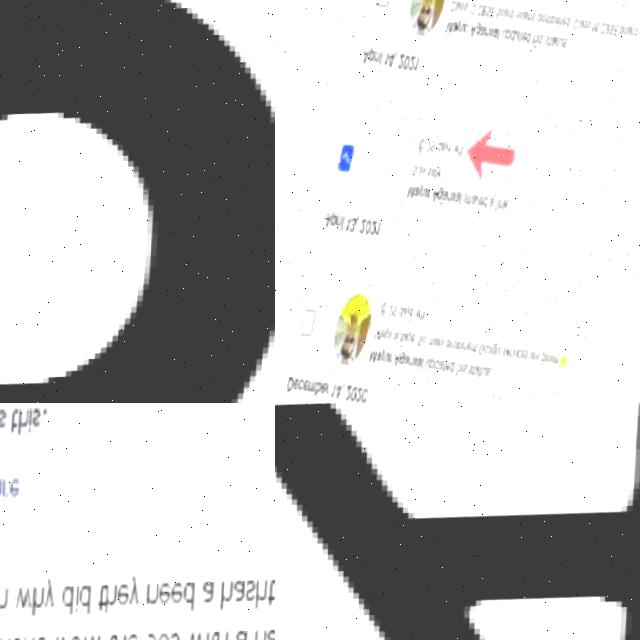0: (400, 58, 410, 75), (349, 388, 359, 403), (363, 222, 372, 238), (360, 390, 369, 403), (592, 28, 599, 40)
1: (329, 386, 337, 402), (411, 60, 419, 76), (381, 55, 388, 72), (373, 224, 380, 240), (344, 220, 350, 234), (588, 27, 595, 39), (466, 7, 470, 20)
2: (343, 387, 353, 403), (405, 59, 415, 75), (368, 223, 377, 240), (395, 57, 404, 74), (357, 222, 366, 238), (354, 390, 363, 403), (387, 308, 393, 321), (425, 144, 431, 157), (469, 8, 475, 21)
3: (348, 220, 357, 236)
4: (385, 54, 395, 73), (333, 386, 343, 402)
9: (391, 308, 397, 322), (429, 145, 435, 157)
A: (275, 403, 640, 640)
